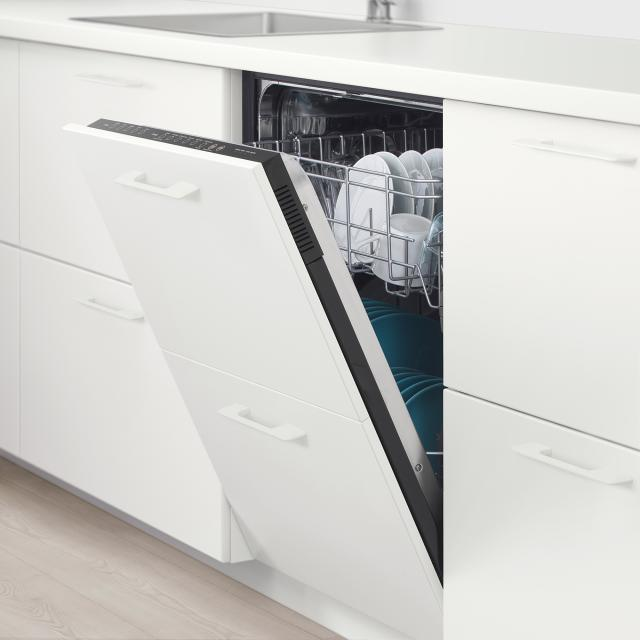dishwasher: (166, 59, 496, 630)
